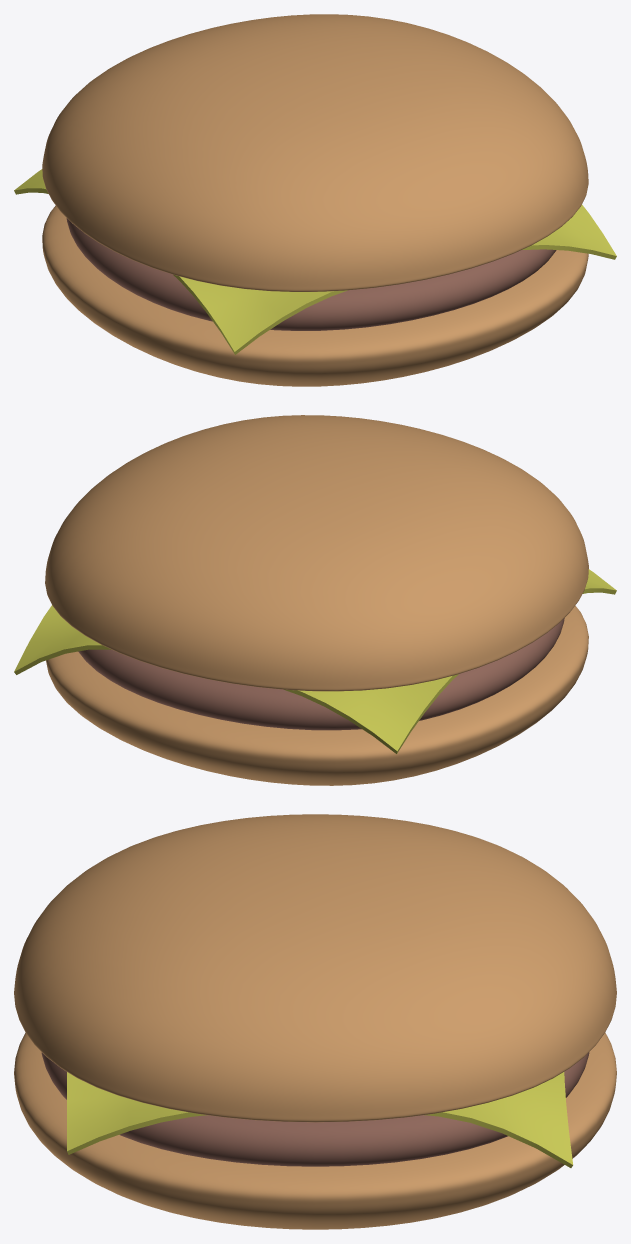
File: hamburger.glb
The picture shows the model from 3 angles, top to bottom: view 1: azimuth 30°, elevation 25°; view 2: azimuth 150°, elevation 25°; view 3: azimuth 270°, elevation 25°; orthographic projection. The views are drawn at different scales.
Parts seen in each view (by area): view 1: Cube.002, Cube, Cube.001, Plane; view 2: Cube.002, Cube, Cube.001, Plane; view 3: Cube.002, Cube, Cube.001, Plane.
Part boxes in pixels (left/top/right/bottom): Cube.002: left=42, top=14, right=588, bottom=291; Cube: left=42, top=205, right=588, bottom=386; Cube.001: left=66, top=218, right=556, bottom=330; Plane: left=14, top=169, right=616, bottom=354; Cube.002: left=45, top=415, right=588, bottom=691; Cube: left=46, top=605, right=588, bottom=785; Cube.001: left=78, top=618, right=564, bottom=730; Plane: left=14, top=569, right=616, bottom=753; Cube.002: left=14, top=814, right=616, bottom=1122; Cube: left=14, top=1032, right=616, bottom=1229; Cube.001: left=41, top=1052, right=589, bottom=1166; Plane: left=67, top=1072, right=573, bottom=1167.
Bounding box in the file's own units: 8.92 × 4.73 × 8.92.
